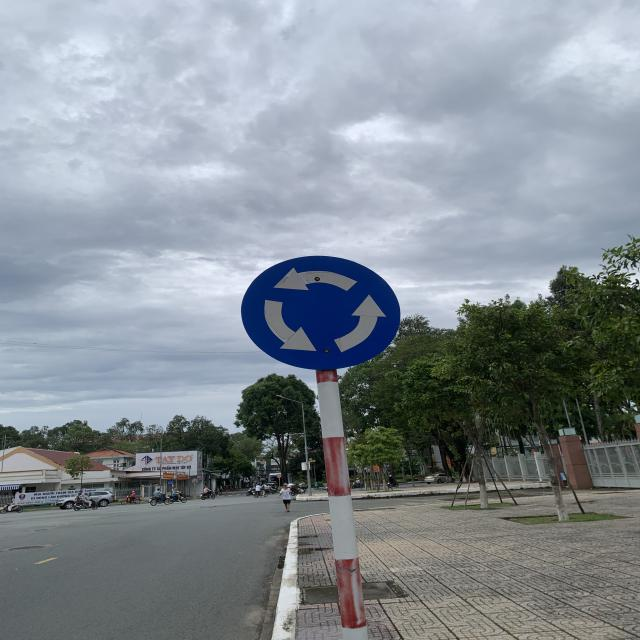Xe_Bus: (238, 254, 400, 371)
